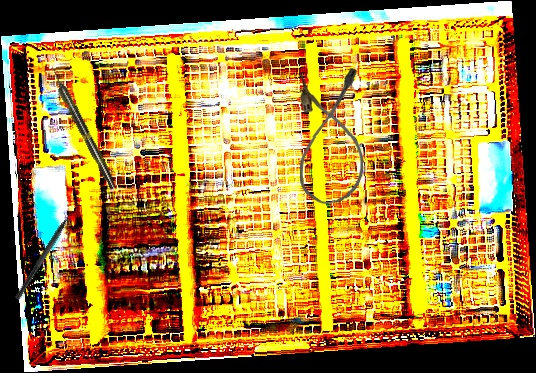Cannula: (298, 67, 364, 206)
Chopper: (14, 204, 82, 305)
Handpiece: (48, 66, 119, 192)
